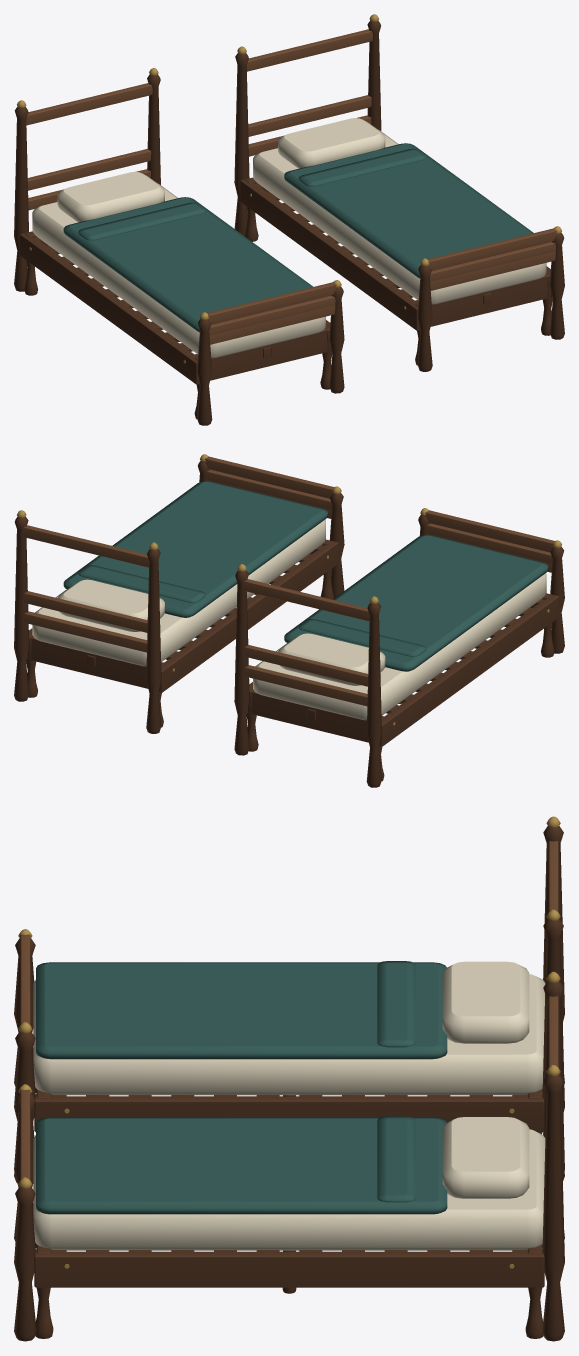
The model's file is rpg-mansion-paired-twin-beds-01.glb.
3 renders of one model, top to bottom at view 1: azimuth 30°, elevation 25°; view 2: azimuth 150°, elevation 25°; view 3: azimuth 270°, elevation 25°, orthographic. The views are drawn at different scales.
Parts seen in each view (by area): view 1: rpg-mansion-paired-twin-beds-01; view 2: rpg-mansion-paired-twin-beds-01; view 3: rpg-mansion-paired-twin-beds-01.
Part boxes in pixels (x1,y1,x2,y2): rpg-mansion-paired-twin-beds-01: [14, 14, 564, 425]; rpg-mansion-paired-twin-beds-01: [14, 454, 564, 787]; rpg-mansion-paired-twin-beds-01: [14, 816, 564, 1341].
Bounding box in the file's own units: 2.36 × 1.16 × 2.13.
